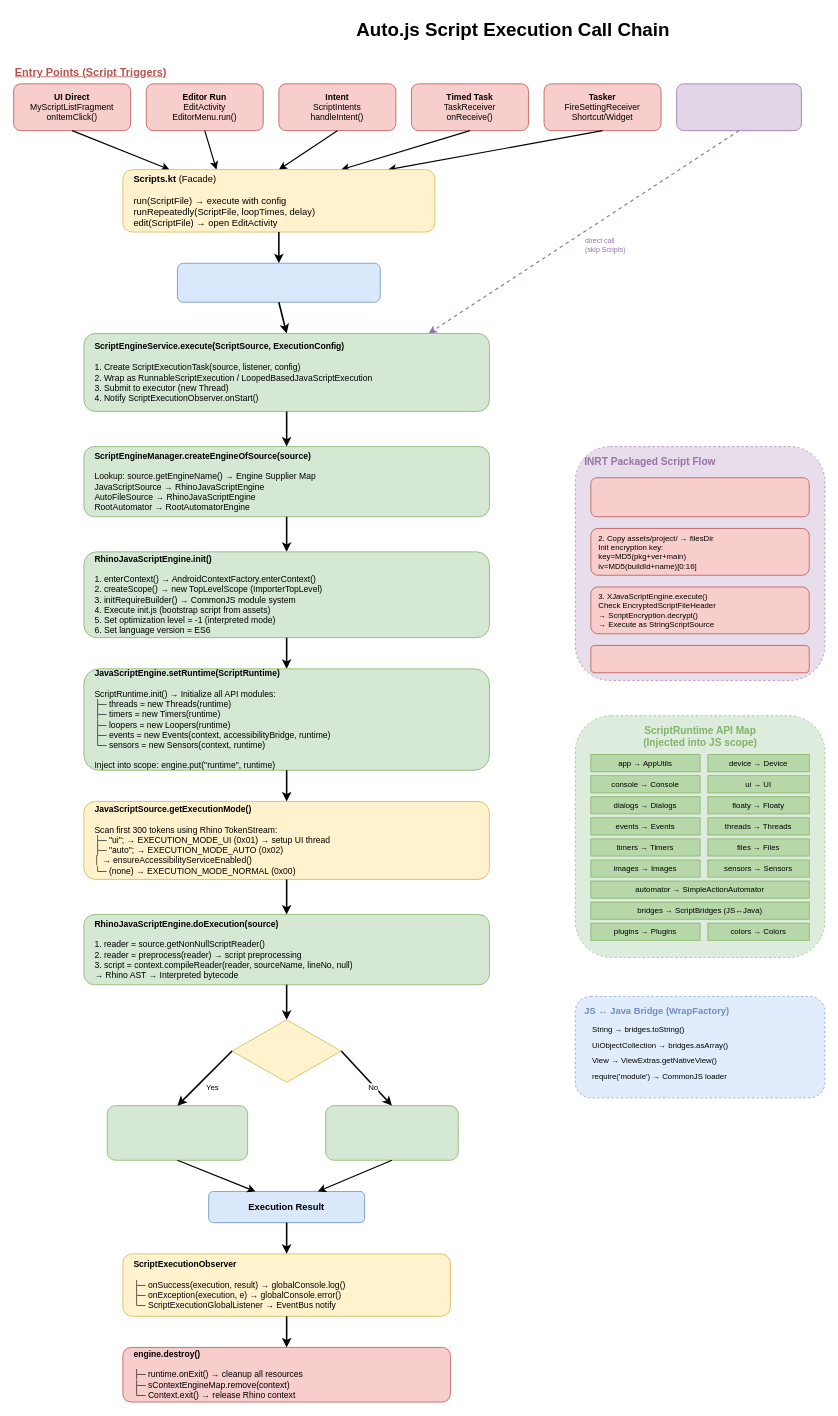
This 838x1416 diagram has some shape labels left out. Each missing label, with the box of its shape:
1. AssetsProjectLauncher.prepare() Load project.json Check buildId (incremental): (590, 477, 809, 517)
4. ROOT auto-enable AccessibilityService (timeout 2s): (590, 645, 809, 673)
AutoJs.getInstance() .getScriptEngineService(): (177, 262, 380, 302)
context.executeScript WithContinuations() (supports pause/resume): (106, 1105, 248, 1160)
hasFeature (CONTINUATION)?: (231, 1019, 341, 1082)
INRT Packaged AssetsProjectLauncher launch(): (676, 83, 801, 131)
script.exec (context, scope) (standard execution): (325, 1105, 458, 1160)
